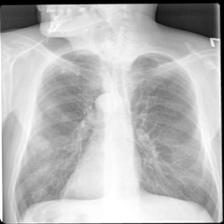tuberculosis: (3, 45, 220, 221)
